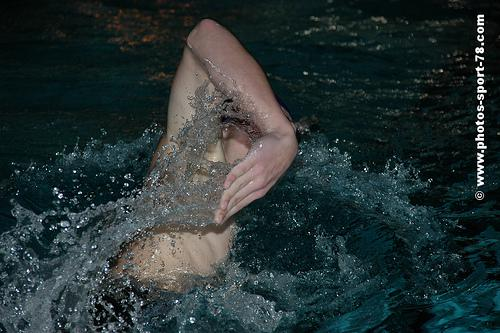human: (96, 16, 302, 292)
